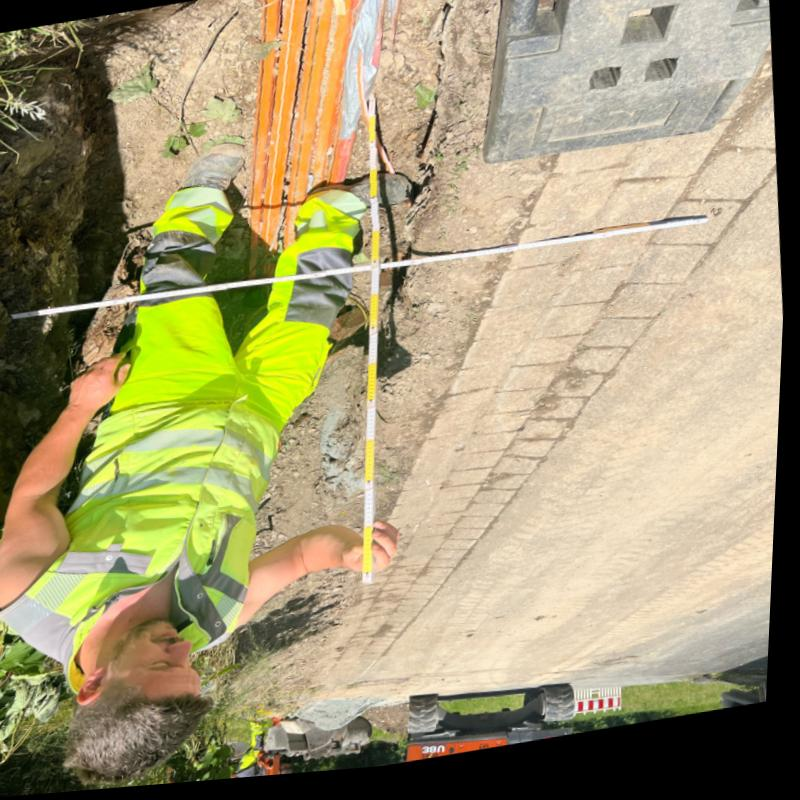Orang-Speednetrohrchen: (252, 0, 388, 252)
